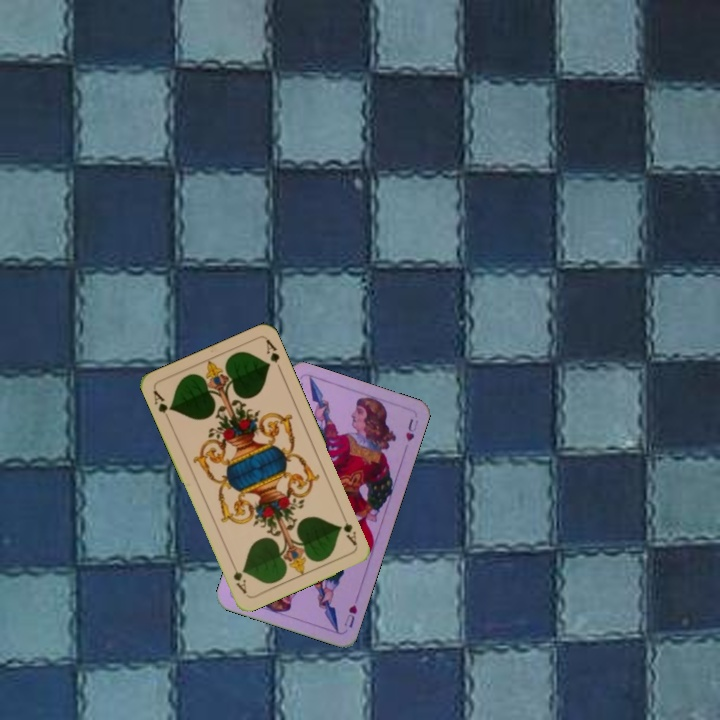GA: (149, 386, 174, 424), (336, 510, 359, 548)
HU: (340, 600, 360, 630)
